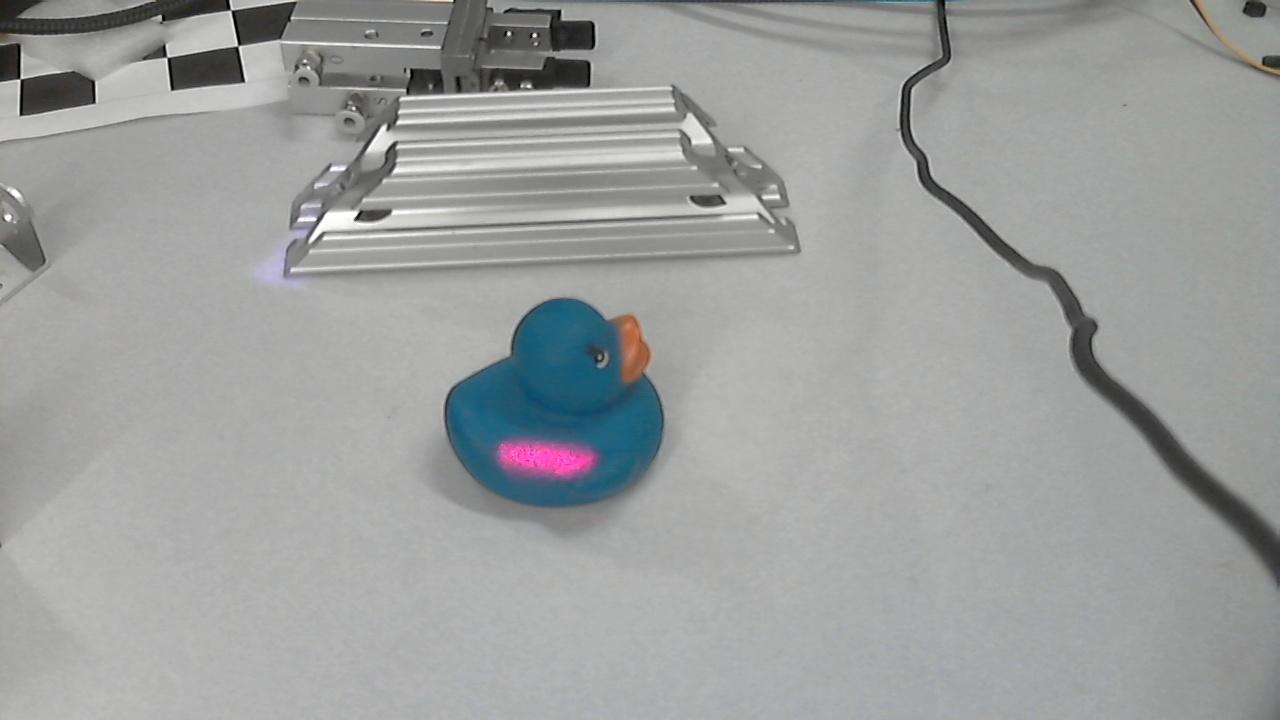Object rubber duck - Material rubber -Color blue - Pdfname BWuUnwTLudUE: (498, 427, 603, 485)
